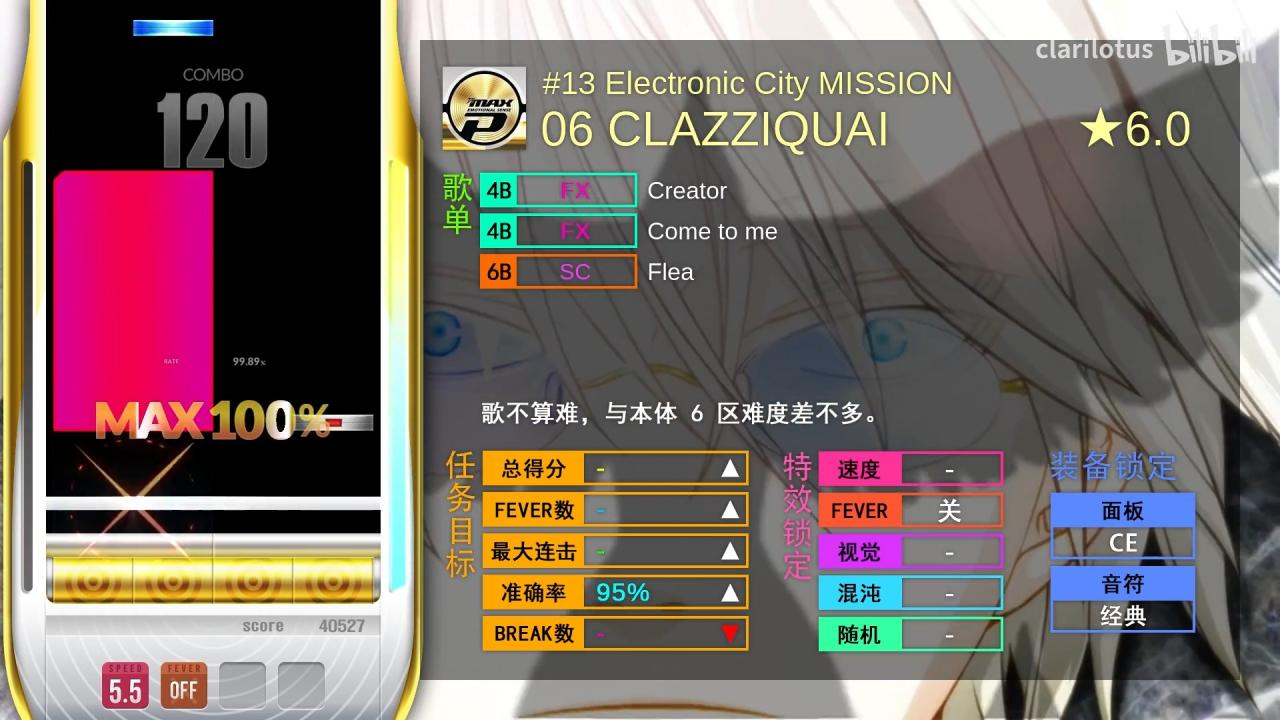note: (294, 414, 373, 431), (133, 20, 214, 36)
xend: (54, 170, 213, 187)
xstart: (54, 413, 213, 430)
